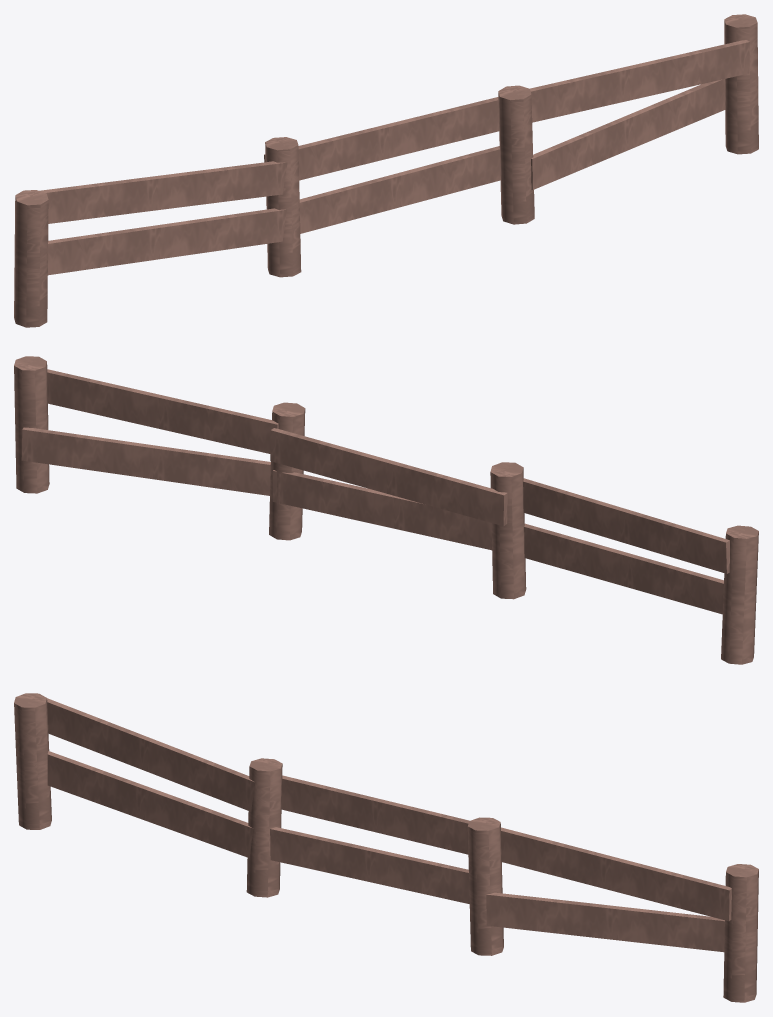
The model's file is wooden_fence.fbx.
3 views of the same model, one above another, from view 1: azimuth 30°, elevation 25°; view 2: azimuth 150°, elevation 25°; view 3: azimuth 330°, elevation 25° (orthographic).
Parts seen in each view (by area): view 1: wooden_fence; view 2: wooden_fence; view 3: wooden_fence.
Part boxes in pixels (bbox=[...]): wooden_fence: bbox=[14, 14, 758, 327]; wooden_fence: bbox=[14, 356, 758, 664]; wooden_fence: bbox=[14, 693, 758, 1002].
Bounding box in the file's own units: 621 × 102 × 52.01.
